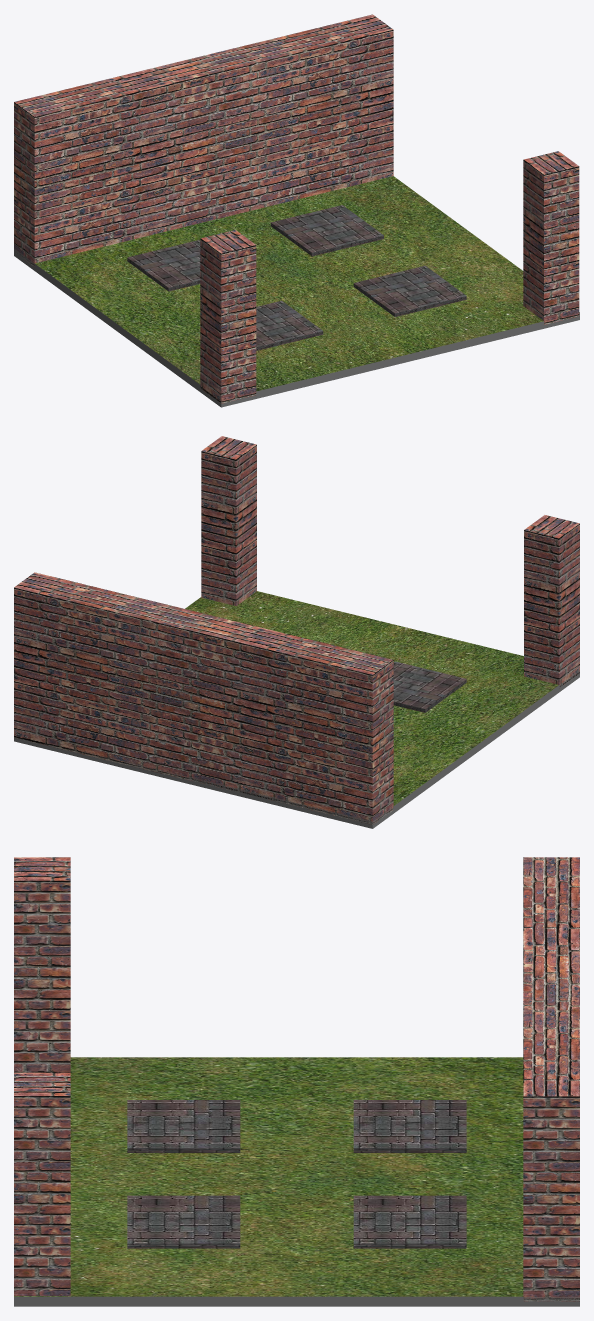
3 renders of one model, top to bottom at view 1: azimuth 30°, elevation 25°; view 2: azimuth 150°, elevation 25°; view 3: azimuth 270°, elevation 25°, orthographic. The views are drawn at different scales.
Visible parts, largest first — view 1: Kreuzung_T_Stein; view 2: Kreuzung_T_Stein; view 3: Kreuzung_T_Stein.
Boxes of the visible parts, left/top/right/bottom form: Kreuzung_T_Stein: left=14, top=14, right=579, bottom=407; Kreuzung_T_Stein: left=14, top=436, right=579, bottom=828; Kreuzung_T_Stein: left=14, top=857, right=579, bottom=1306.
Size of the model in its own units: 5 by 2.05 by 5.
Materials: 11 (10 with a texture image).
